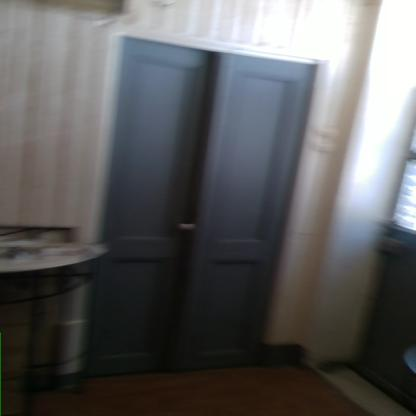closed: (72, 26, 334, 381)
